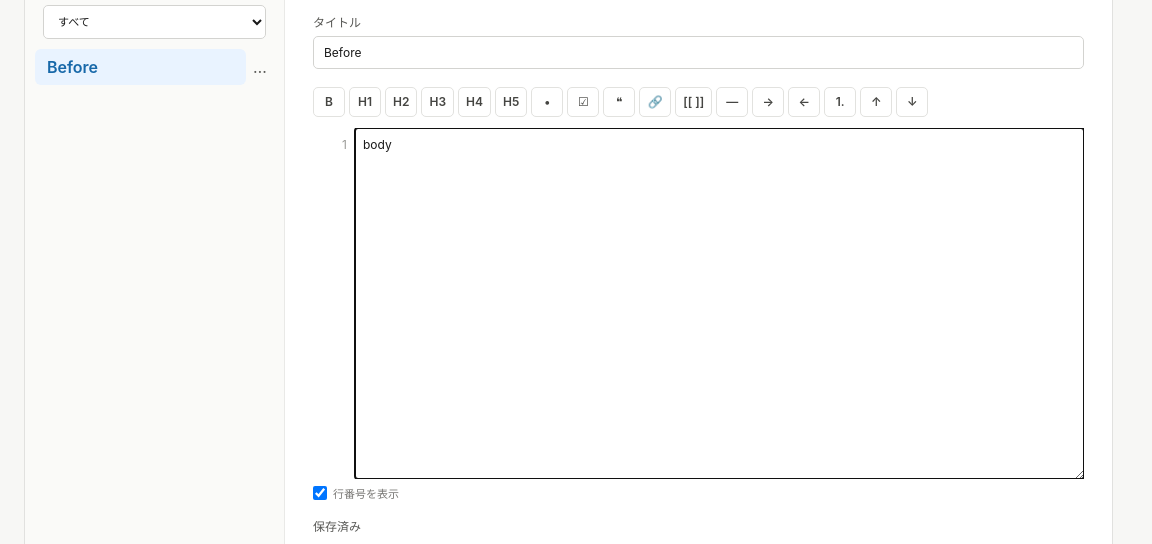
Scenario: NotesBoard › replaces the toolbar marker with a stable Markdown link and saves through the existing revision CAS
The image size is (1152, 544).
Step 1. Click the button named "内部リンクを挿入" → x=694, y=102, box 675,87 -> 712,117
(page scrolled)
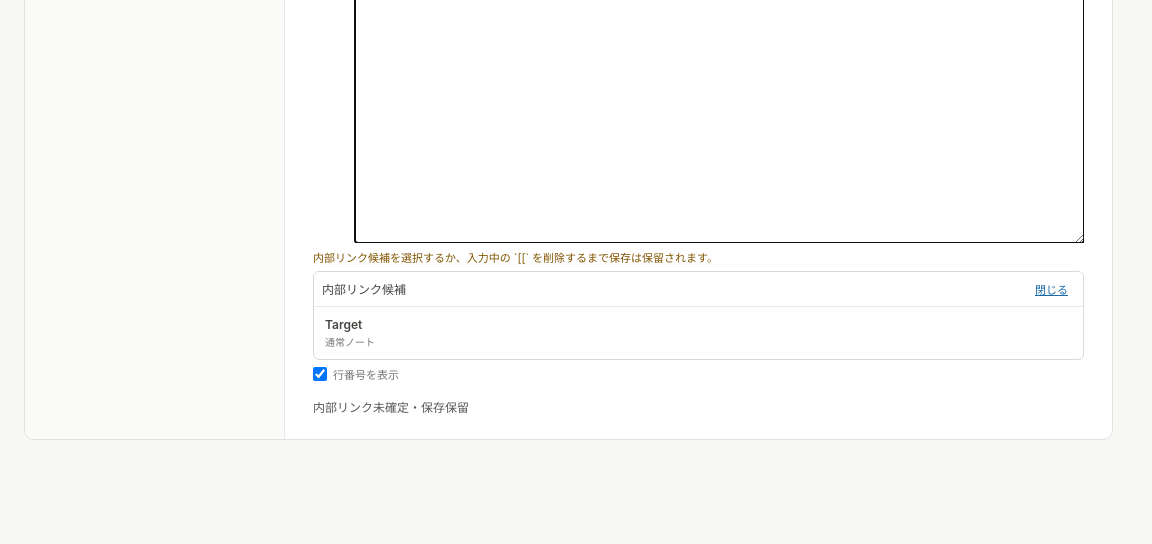
Step 2. Click the button "Target 通常ノート" → x=344, y=324, box 318,311 -> 1079,355
(page scrolled)
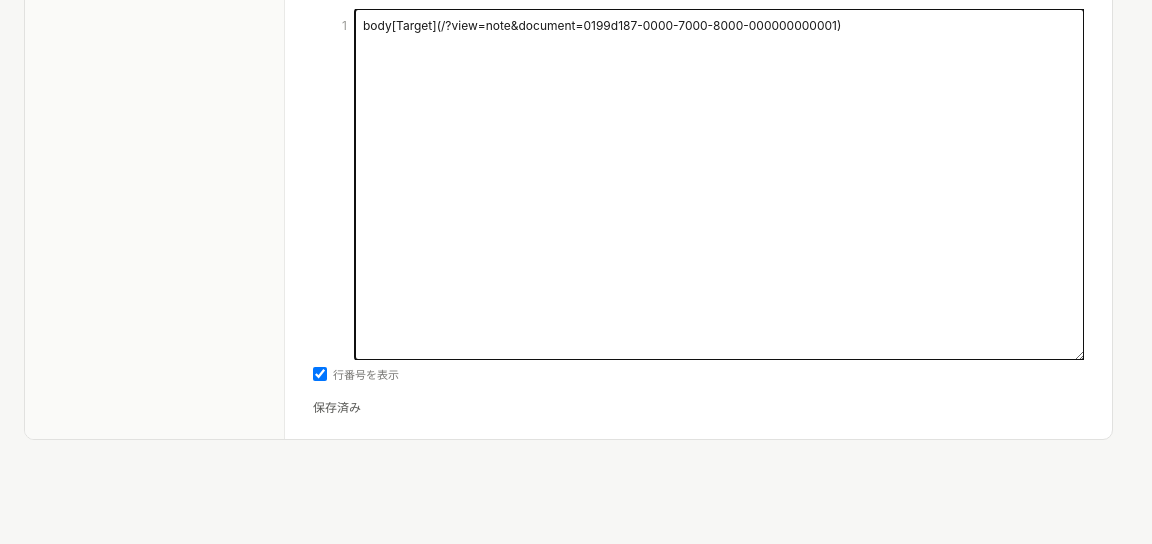
Now the text box named "Markdown本文" holds "body[Target](/?view=note&document=0199d187-0000-7000-8000-000000000001)", box 355,9 -> 1084,360
